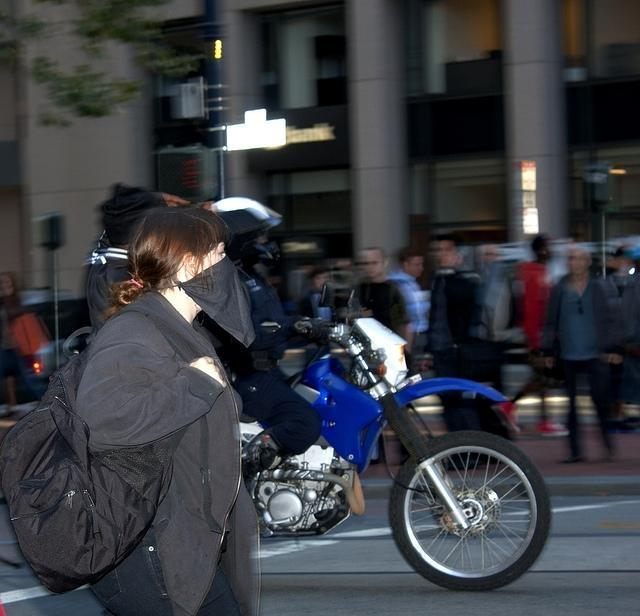motorcycle: (238, 264, 550, 596)
